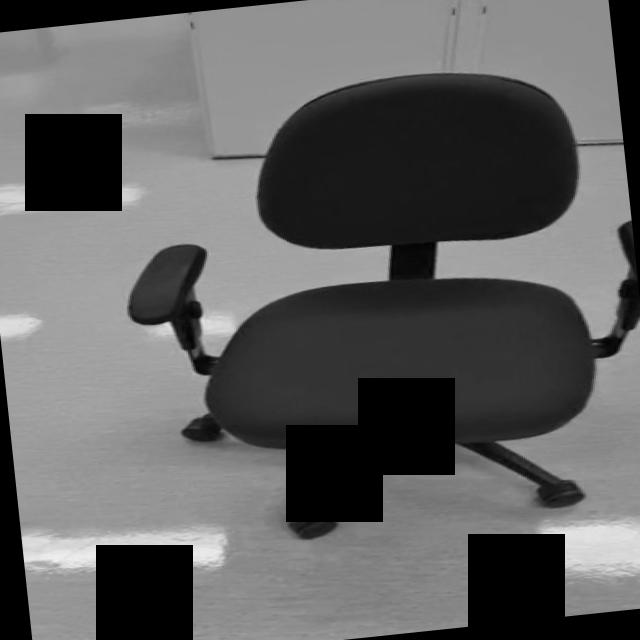cadeira-azul: (105, 52, 640, 555)
